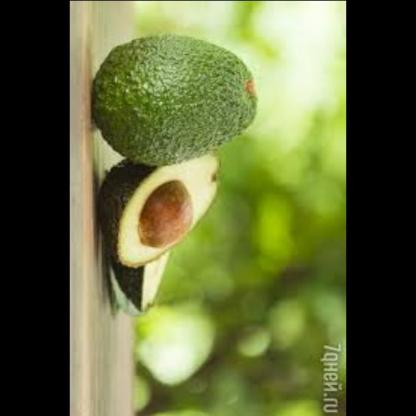avocado: (92, 22, 272, 160), (97, 142, 226, 316)
